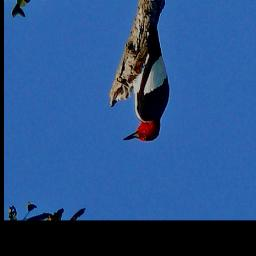Woodpecker: (116, 0, 180, 152)
